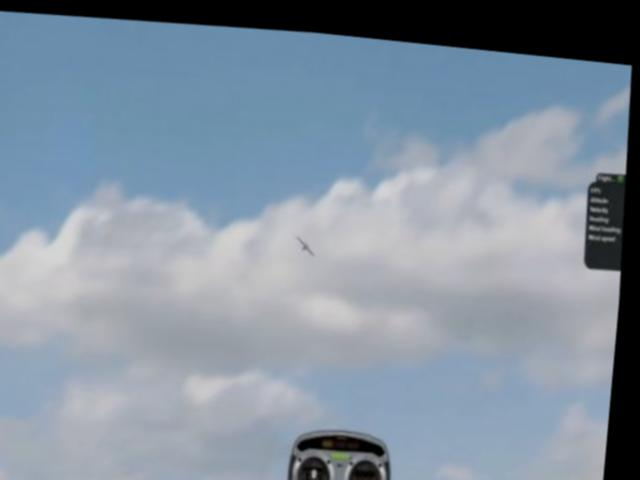uav: (297, 226, 322, 251)
